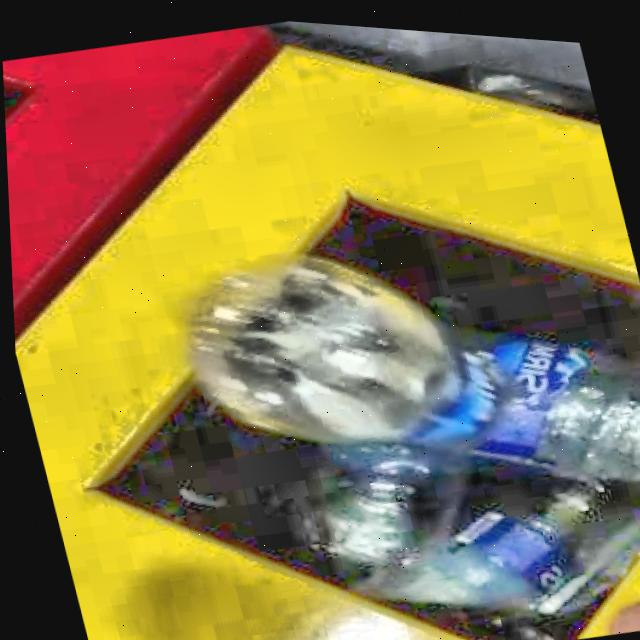plastic: (183, 253, 565, 602)
